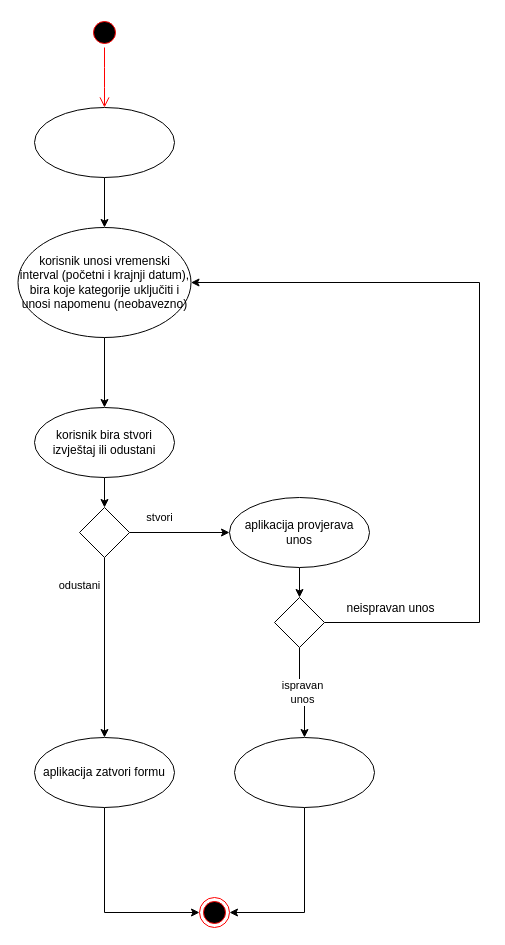
The diagram is 505 pixels wide and 945 high, and some of its shapes have lost their labels. The centre of each missing label's shape, as x and y in pixels:
"aplikacija prikaže formu za stvaranje izvještaja" belongs at pixel 104 142.
"aplikacija zatvori formu i prikaže izvještaj" belongs at pixel 304 772.
